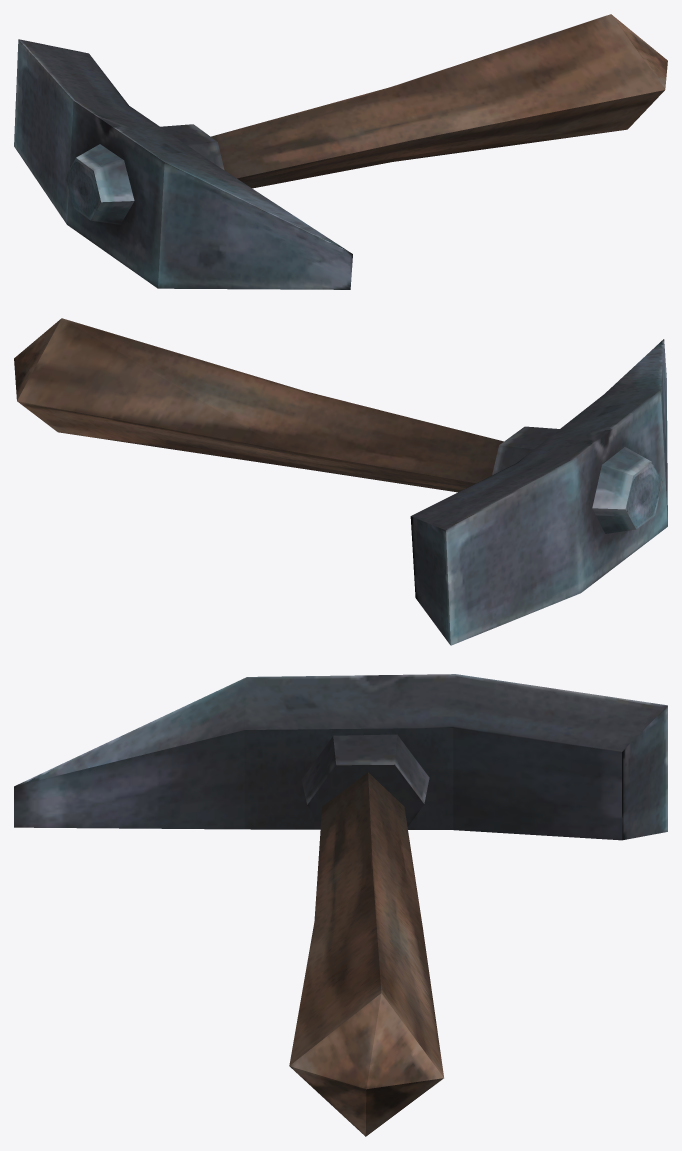
The model's file is mine_pick01.fbx.
3 renders of one model, top to bottom at view 1: azimuth 30°, elevation 25°; view 2: azimuth 150°, elevation 25°; view 3: azimuth 270°, elevation 25°, orthographic. The views are drawn at different scales.
Visible parts, largest first — view 1: obj0.035; view 2: obj0.035; view 3: obj0.035.
Boxes of the visible parts, x1,y1,x2,y2 form: obj0.035: [14, 14, 667, 289]; obj0.035: [14, 318, 667, 645]; obj0.035: [14, 674, 667, 1136].
Bounding box in the file's own units: 1.4 × 0.2929 × 1.11.
